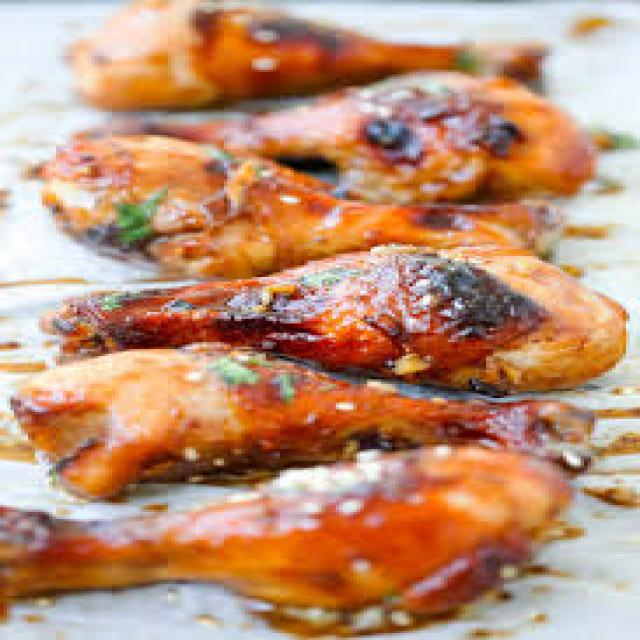Frango: (18, 2, 619, 619)
